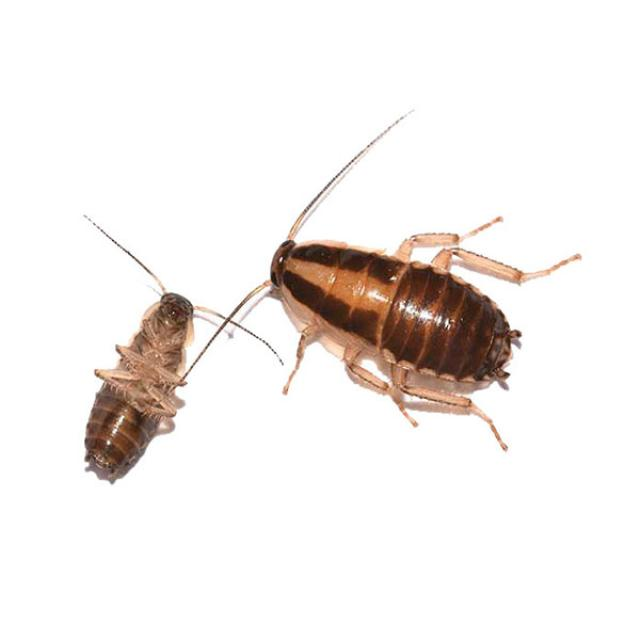Cockroach: (196, 126, 562, 488), (62, 224, 233, 501)
